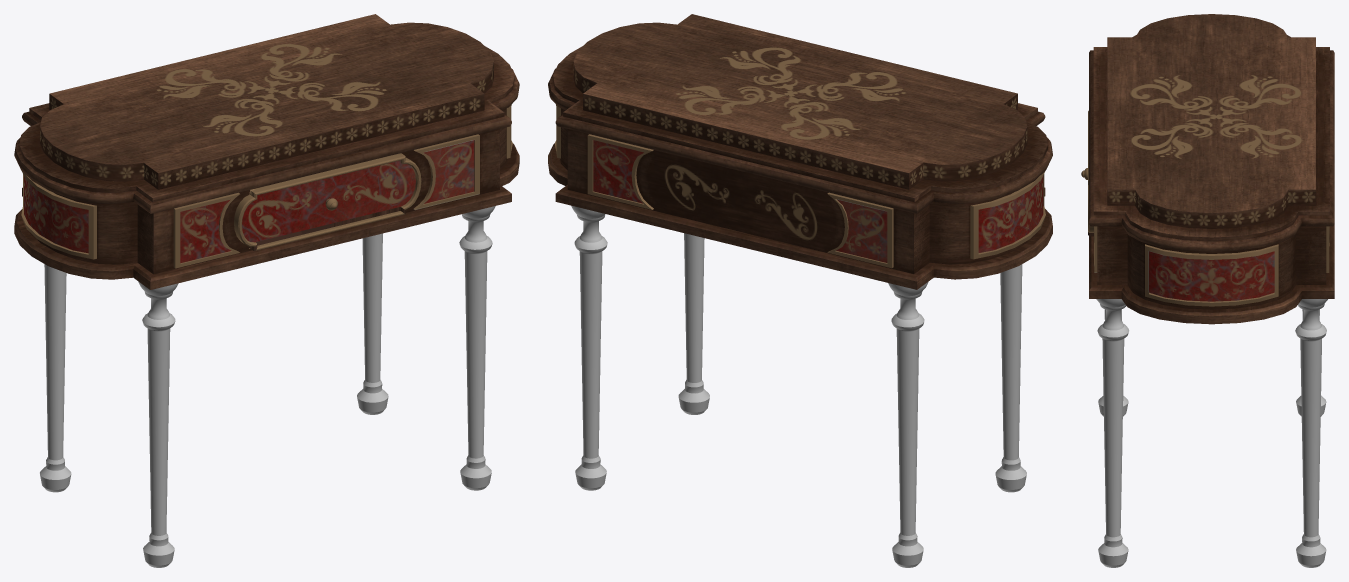
The model's file is small_table.fbx.
3 views of the same model, side by side, from view 1: azimuth 30°, elevation 25°; view 2: azimuth 150°, elevation 25°; view 3: azimuth 270°, elevation 25° (orthographic). The views are drawn at different scales.
Parts seen in each view (by area): view 1: pasted__pCube12, group31_pasted__group28_pasted__pasted__pCylinder17, pasted__pCube12.002; view 2: pasted__pCube12, group31_pasted__group28_pasted__pasted__pCylinder17; view 3: pasted__pCube12, group31_pasted__group28_pasted__pasted__pCylinder17.
Part boxes in pixels (x1,y1,x2,y2): pasted__pCube12: (14,14,519,289); group31_pasted__group28_pasted__pasted__pCylinder17: (40,206,495,567); pasted__pCube12.002: (234,153,421,251); pasted__pCube12: (548,14,1052,289); group31_pasted__group28_pasted__pasted__pCylinder17: (571,205,1026,567); pasted__pCube12: (1089,14,1334,324); group31_pasted__group28_pasted__pasted__pCylinder17: (1096,299,1327,567).
Bounding box in the file's own units: 91.53 × 73.04 × 44.52.
2 materials, 1 textured.
